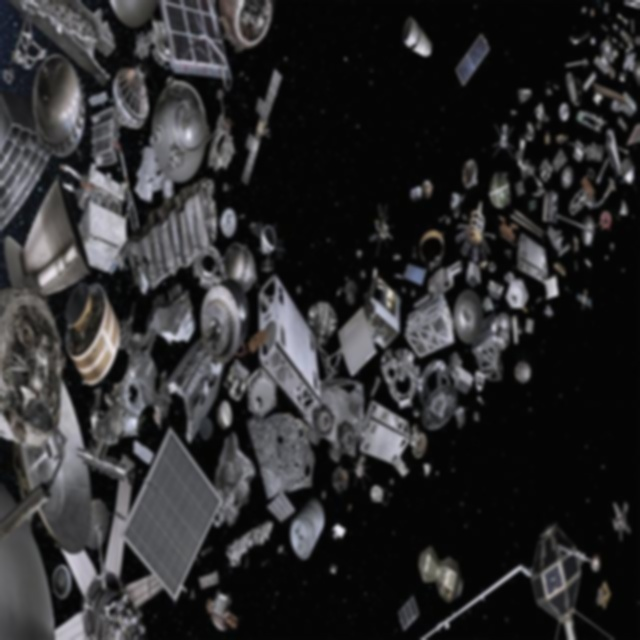large_debris: (0, 371, 94, 637), (415, 510, 607, 639), (78, 285, 195, 490), (54, 469, 174, 638), (117, 422, 222, 611), (117, 174, 221, 302), (4, 168, 91, 303), (2, 283, 67, 454), (5, 0, 118, 93), (249, 278, 321, 418), (134, 77, 211, 207), (132, 0, 234, 92), (248, 405, 318, 539), (1, 70, 54, 239), (60, 157, 131, 278), (62, 276, 126, 395), (236, 63, 290, 191), (309, 292, 380, 387), (30, 51, 86, 166), (303, 375, 368, 467), (211, 432, 256, 534), (200, 276, 247, 370), (417, 536, 466, 621), (357, 397, 415, 466), (361, 272, 404, 356), (404, 291, 455, 360), (473, 310, 513, 396), (216, 0, 273, 58), (111, 58, 151, 137), (120, 389, 166, 456), (225, 512, 278, 570), (410, 256, 464, 312), (288, 494, 327, 570), (420, 356, 458, 434), (455, 197, 496, 264), (207, 85, 236, 173), (453, 29, 492, 92), (253, 208, 287, 280), (109, 0, 161, 43), (569, 172, 617, 217), (367, 193, 395, 262), (223, 240, 261, 290), (516, 232, 548, 284), (454, 288, 484, 343), (515, 134, 543, 191), (414, 227, 449, 272), (557, 212, 599, 249), (206, 588, 241, 632), (400, 16, 433, 62), (248, 366, 278, 416), (593, 84, 638, 117), (488, 165, 513, 212), (437, 188, 467, 227), (610, 494, 633, 543), (593, 35, 618, 80), (509, 209, 547, 238), (490, 121, 515, 162), (505, 271, 529, 312), (49, 563, 77, 598), (567, 139, 606, 164), (451, 353, 474, 395), (367, 478, 393, 515), (399, 593, 424, 631), (197, 563, 220, 603), (574, 108, 607, 135), (512, 312, 537, 347), (402, 257, 428, 289), (606, 127, 622, 178), (407, 177, 436, 204), (409, 420, 429, 459), (619, 155, 638, 193), (512, 354, 532, 390), (595, 576, 614, 613), (498, 215, 519, 248), (461, 155, 480, 191), (622, 50, 640, 87), (340, 277, 358, 311), (565, 71, 582, 106), (329, 465, 352, 490), (222, 200, 236, 240), (542, 189, 558, 224), (465, 259, 483, 287), (544, 272, 560, 301), (534, 100, 550, 129), (547, 224, 563, 253), (551, 146, 568, 173), (596, 155, 611, 184), (576, 285, 592, 312), (569, 27, 590, 47), (331, 516, 347, 542), (487, 277, 505, 299), (453, 402, 466, 431), (538, 157, 553, 182), (625, 122, 640, 147), (481, 293, 496, 316), (583, 69, 597, 93), (564, 56, 589, 69), (597, 210, 611, 233), (561, 165, 574, 189), (517, 86, 532, 106), (553, 258, 566, 277), (558, 101, 569, 122), (328, 561, 339, 581), (423, 459, 433, 480), (525, 121, 535, 142), (558, 241, 570, 257), (515, 178, 525, 197), (619, 198, 629, 217), (618, 116, 627, 133), (624, 36, 633, 53), (622, 0, 639, 9), (471, 408, 481, 423), (543, 304, 553, 319), (616, 13, 627, 26), (585, 167, 594, 182), (619, 26, 628, 41), (556, 132, 568, 143), (572, 234, 578, 256), (503, 246, 513, 259), (489, 260, 498, 274), (617, 146, 628, 157), (529, 198, 537, 211), (477, 393, 485, 405), (535, 293, 543, 305), (585, 256, 592, 269), (545, 86, 552, 99), (510, 108, 517, 119), (545, 130, 550, 145), (612, 22, 618, 33), (600, 23, 607, 32), (574, 258, 578, 273), (565, 285, 571, 295), (603, 0, 608, 12), (610, 241, 615, 252), (634, 34, 639, 45), (590, 37, 596, 46), (553, 83, 560, 90), (581, 5, 586, 14), (620, 72, 625, 81), (631, 18, 634, 33), (590, 7, 594, 18), (619, 41, 624, 48), (605, 255, 609, 260)
